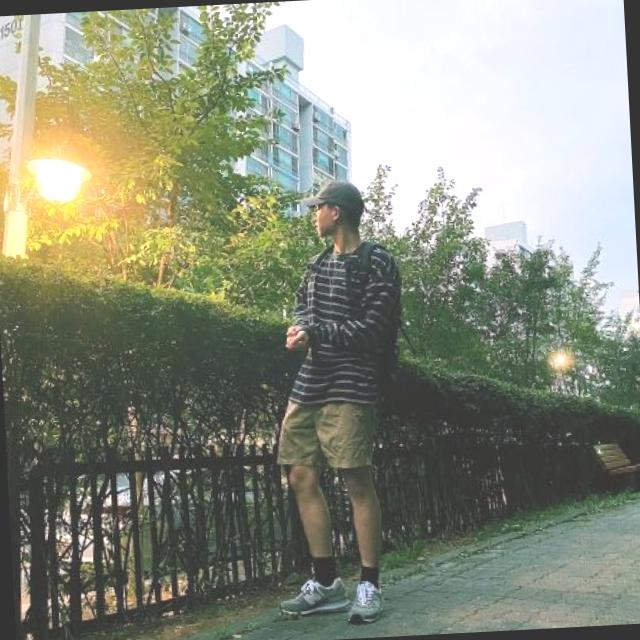longsleeve: (277, 234, 402, 404)
shortpants: (277, 396, 380, 474)
